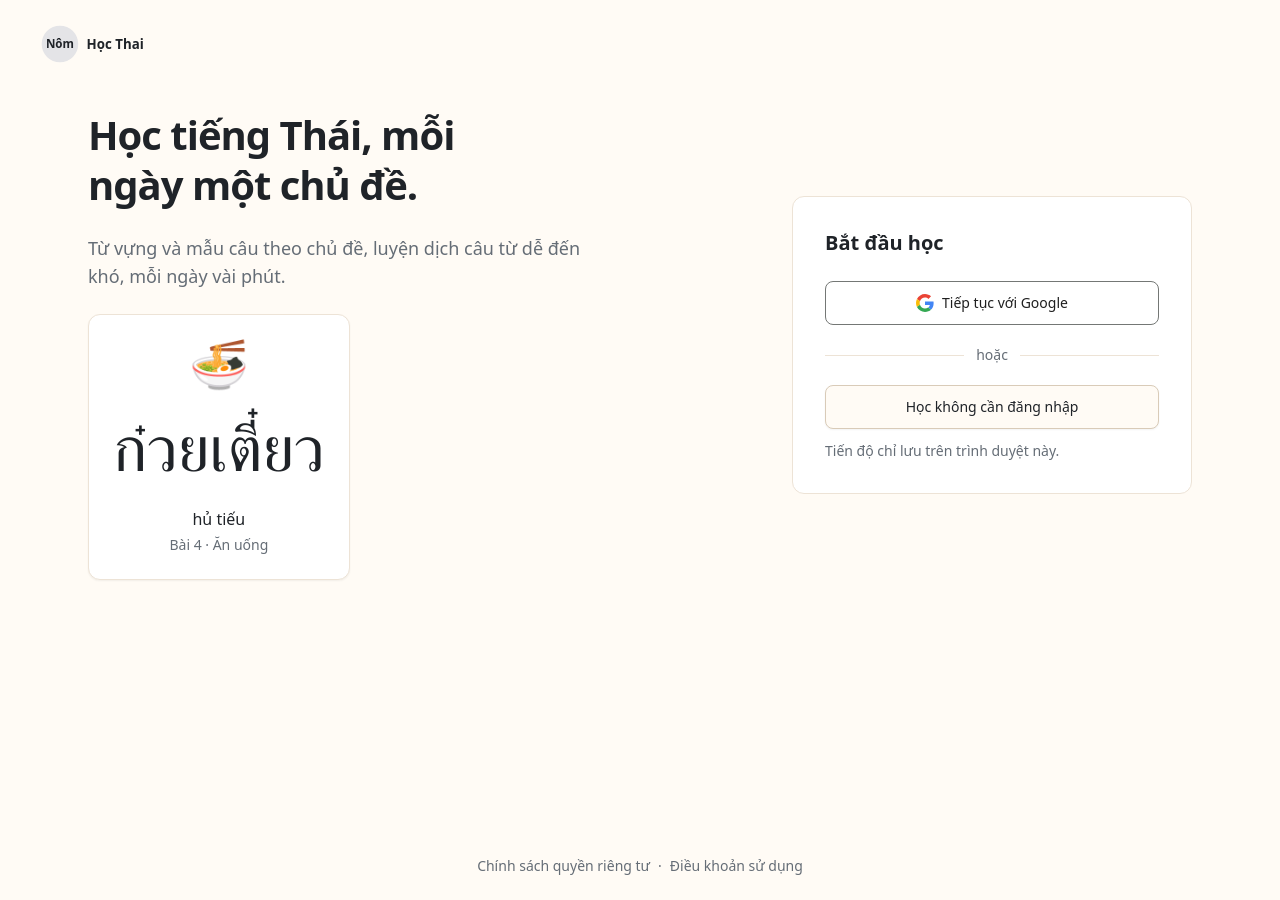
Scenario: LoginPage (SCR-01) › "Học không cần đăng nhập" → ghi nhớ Guest, vào Dashboard (L-02)
Click the button with test id "continue-as-guest" at (992, 407), box [825,385,1159,429]
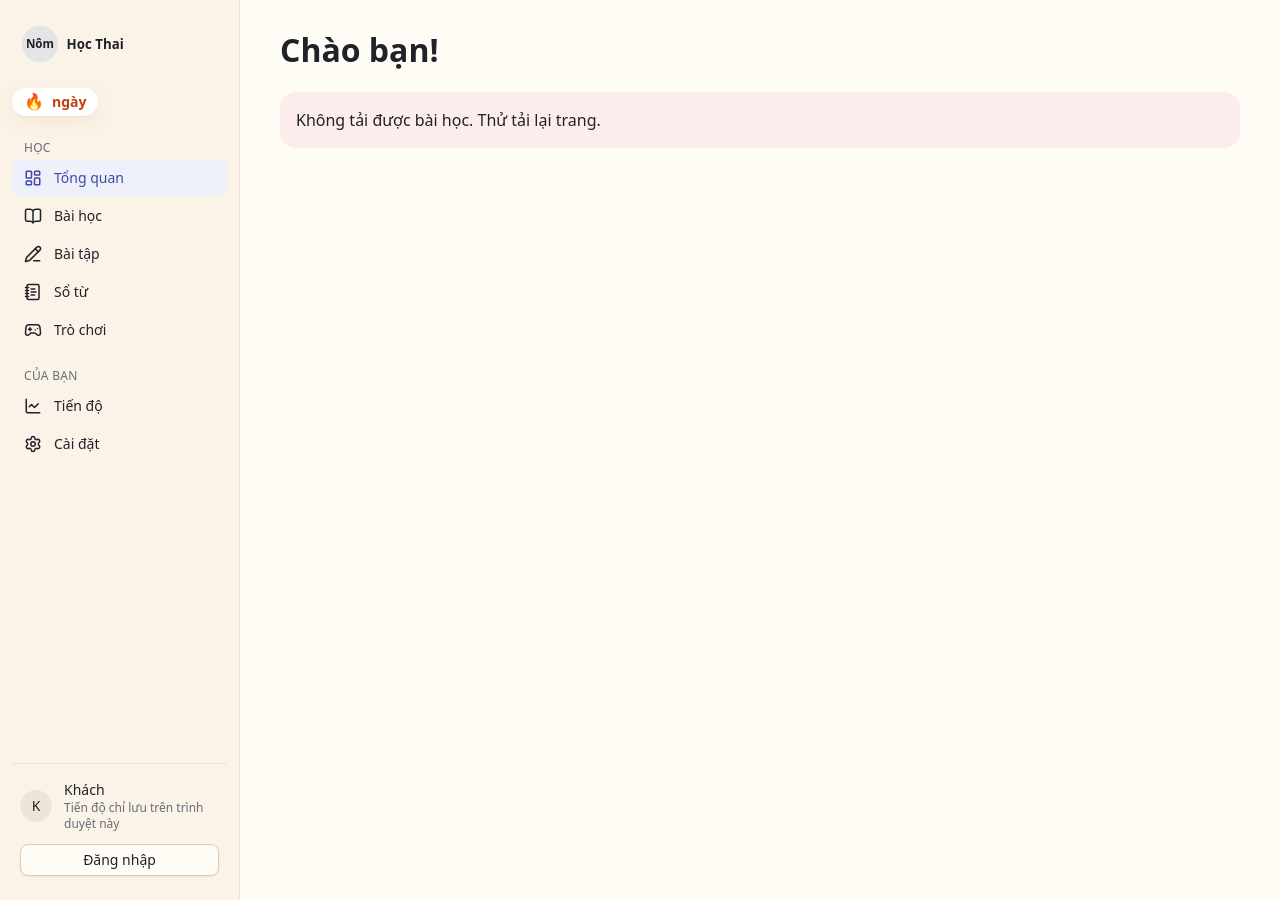
Expected: the element with test id "page-dashboard" is shown, [280,32,1240,148]
